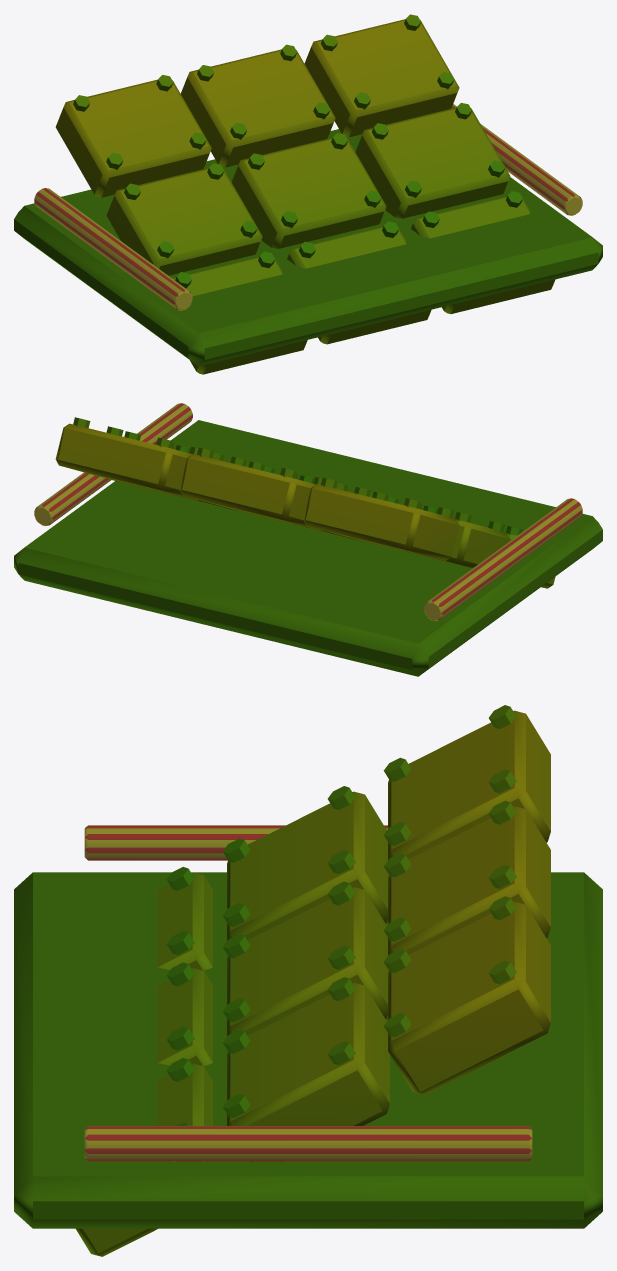
The model's file is RCLModule_assault_walker_orbital_drop_pod_cermet.fbx.
3 renders of one model, top to bottom at view 1: azimuth 30°, elevation 25°; view 2: azimuth 150°, elevation 25°; view 3: azimuth 270°, elevation 25°, orthographic. The views are drawn at different scales.
Visible parts, largest first — view 1: RCLModule_assault_walker_orbital_drop_pod_cermet_Batch_RCLMo (×3); view 2: RCLModule_assault_walker_orbital_drop_pod_cermet_Batch_RCLMo (×3); view 3: RCLModule_assault_walker_orbital_drop_pod_cermet_Batch_RCLMo (×3).
Part boxes in pixels (x1=…): RCLModule_assault_walker_orbital_drop_pod_cermet_Batch_RCLMo (×3): x1=14, y1=14, x2=602, y2=374; RCLModule_assault_walker_orbital_drop_pod_cermet_Batch_RCLMo (×3): x1=14, y1=403, x2=602, y2=676; RCLModule_assault_walker_orbital_drop_pod_cermet_Batch_RCLMo (×3): x1=14, y1=705, x2=602, y2=1256.
Bounding box in the file's own units: 72 × 30.24 × 56.
